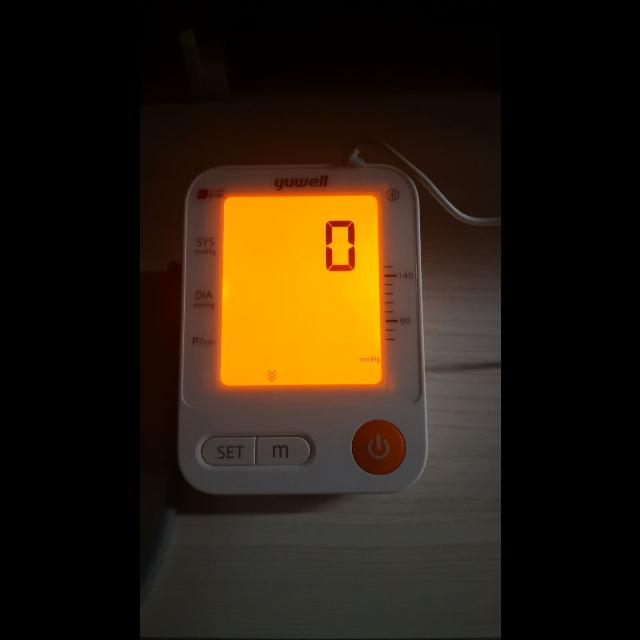Blood-Pressure-Monitor: (174, 162, 426, 496)
